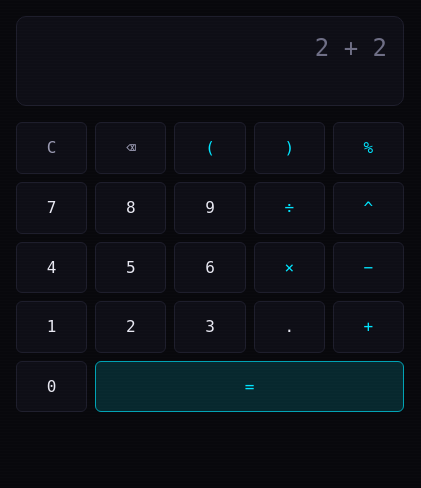
Test: Calculator › keeps a finished calculation in the history
In the field named "expression": (210, 48) left=33, top=29, right=387, bottom=67, type "8*8"
Then press Enter
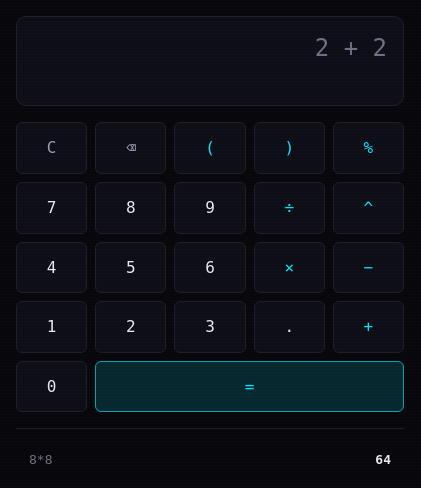
Now the text "8*8" is shown, box left=29, top=450, right=52, bottom=471
Now the text "64" is shown, box left=375, top=450, right=391, bottom=471
